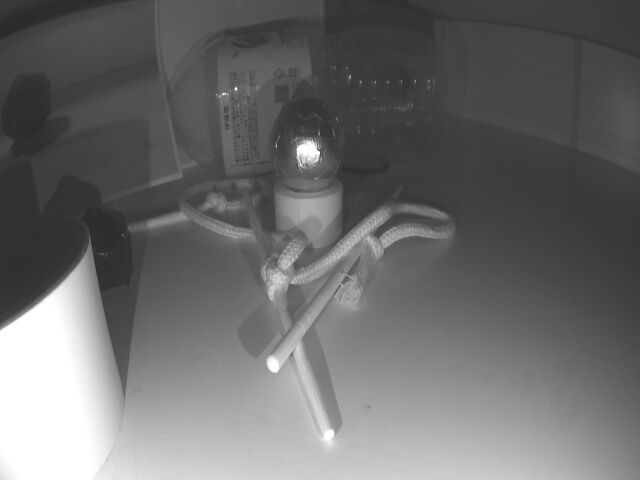Dead: (88, 203, 125, 286)
Live: (273, 98, 342, 189)
